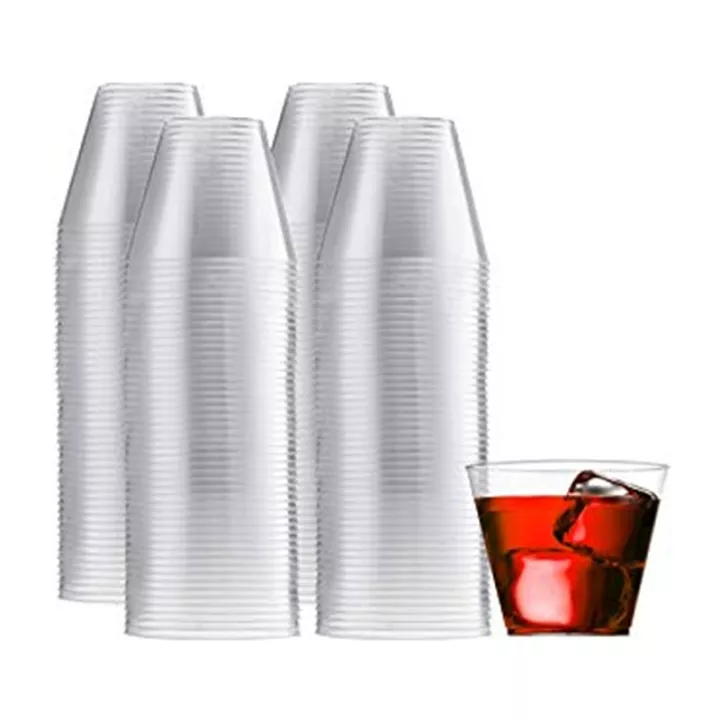plastic_bottle: (462, 455, 672, 645)
